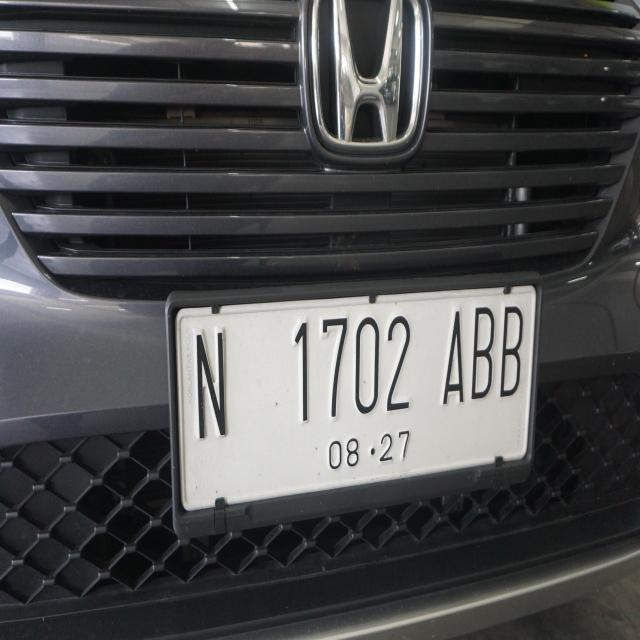0: (353, 318, 384, 415)
1: (284, 322, 318, 431)
2: (379, 312, 414, 418)
7: (317, 315, 352, 428)
A: (438, 301, 469, 413)
B: (497, 299, 528, 413), (469, 300, 495, 407)
N: (183, 310, 238, 455)
